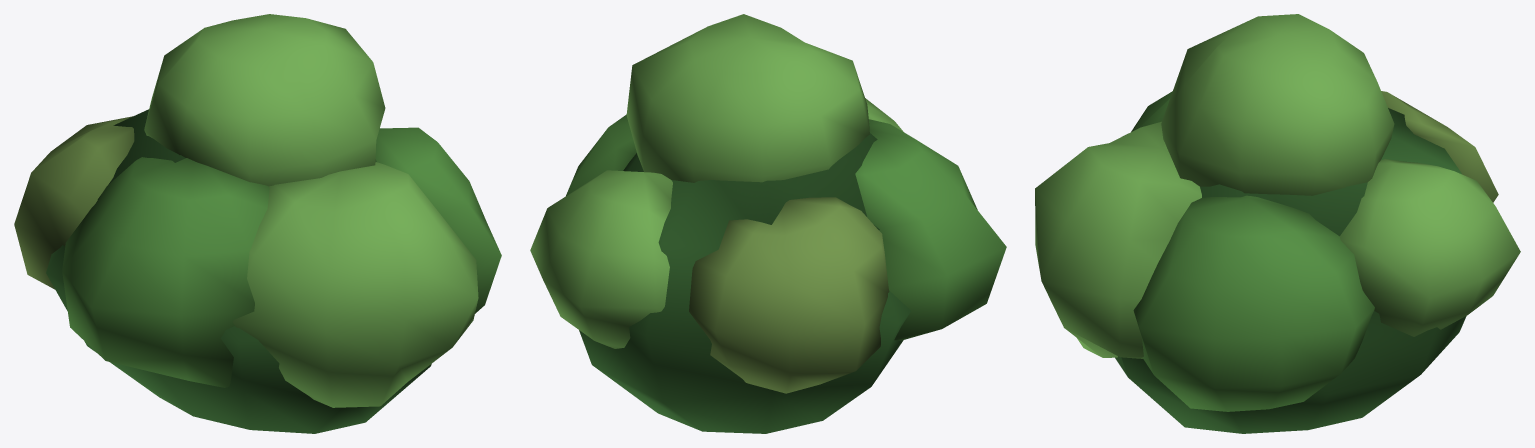
File: bush.glb
3 views of the same model, side by side, from view 1: azimuth 30°, elevation 25°; view 2: azimuth 150°, elevation 25°; view 3: azimuth 270°, elevation 25° (orthographic).
Parts seen in each view (by area): view 1: bush; view 2: bush; view 3: bush.
Part boxes in pixels (x1,y1,x2,y2): bush: [14, 14, 501, 433]; bush: [530, 14, 1006, 433]; bush: [1035, 14, 1520, 433].
Bounding box in the file's own units: 1.04 × 0.9102 × 1.1.
